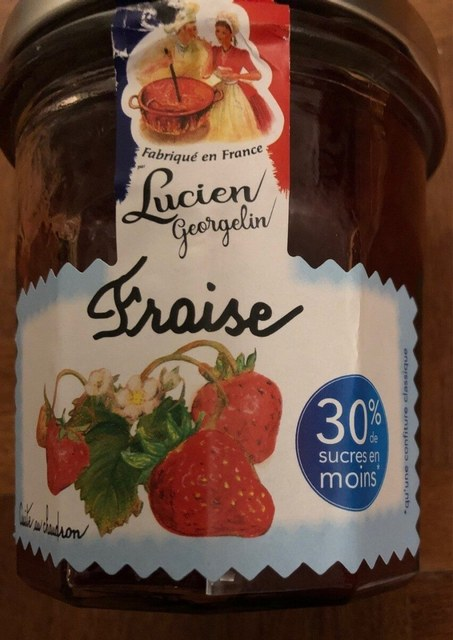Fraise: (23, 32, 430, 608)
